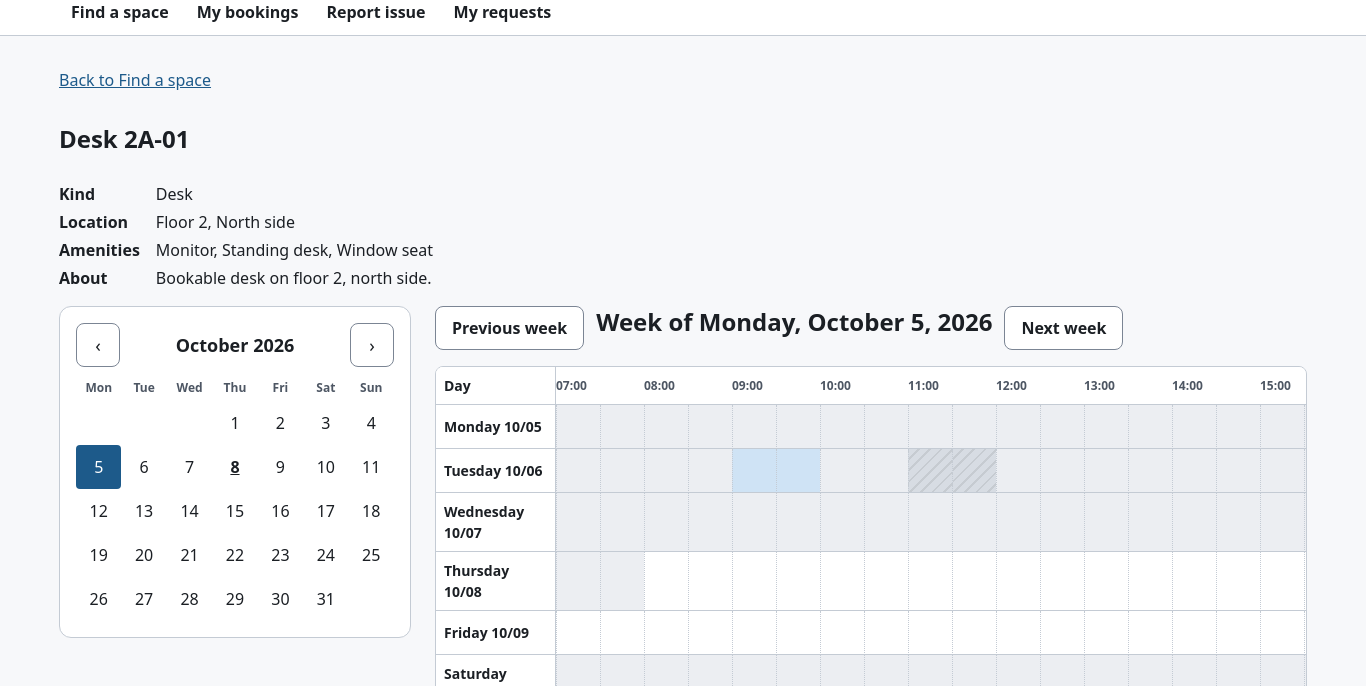
resource week calendar (SPEC 14.1) › one click on a desk's week grid selects an hour
What coordinates should you click on to do the following:
click the cell named "Friday 10/09, 13:00 to 13:30, available"
I would click on:
 (1106, 633)
Its box is [1084, 611, 1128, 655].
(page scrolled)
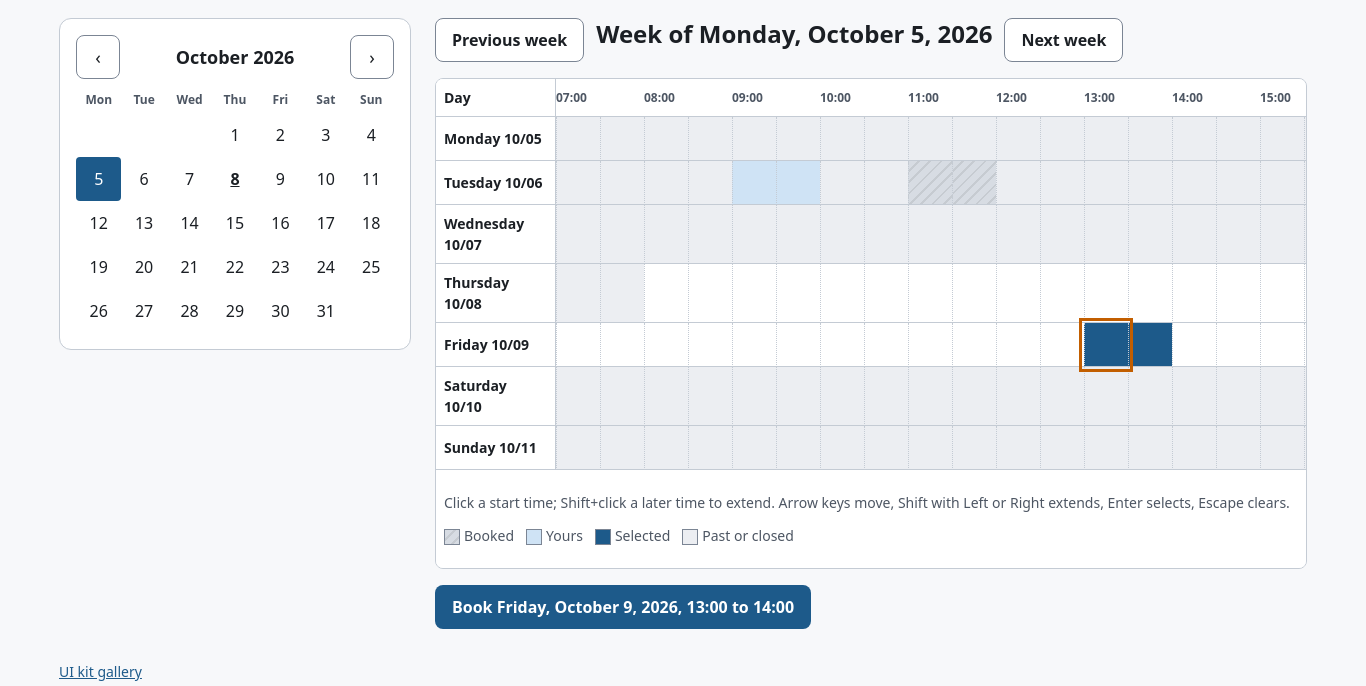
Now the button "Book Friday, October 9, 2026, 13:00 to 14:00" is shown, box [435, 585, 811, 629]
